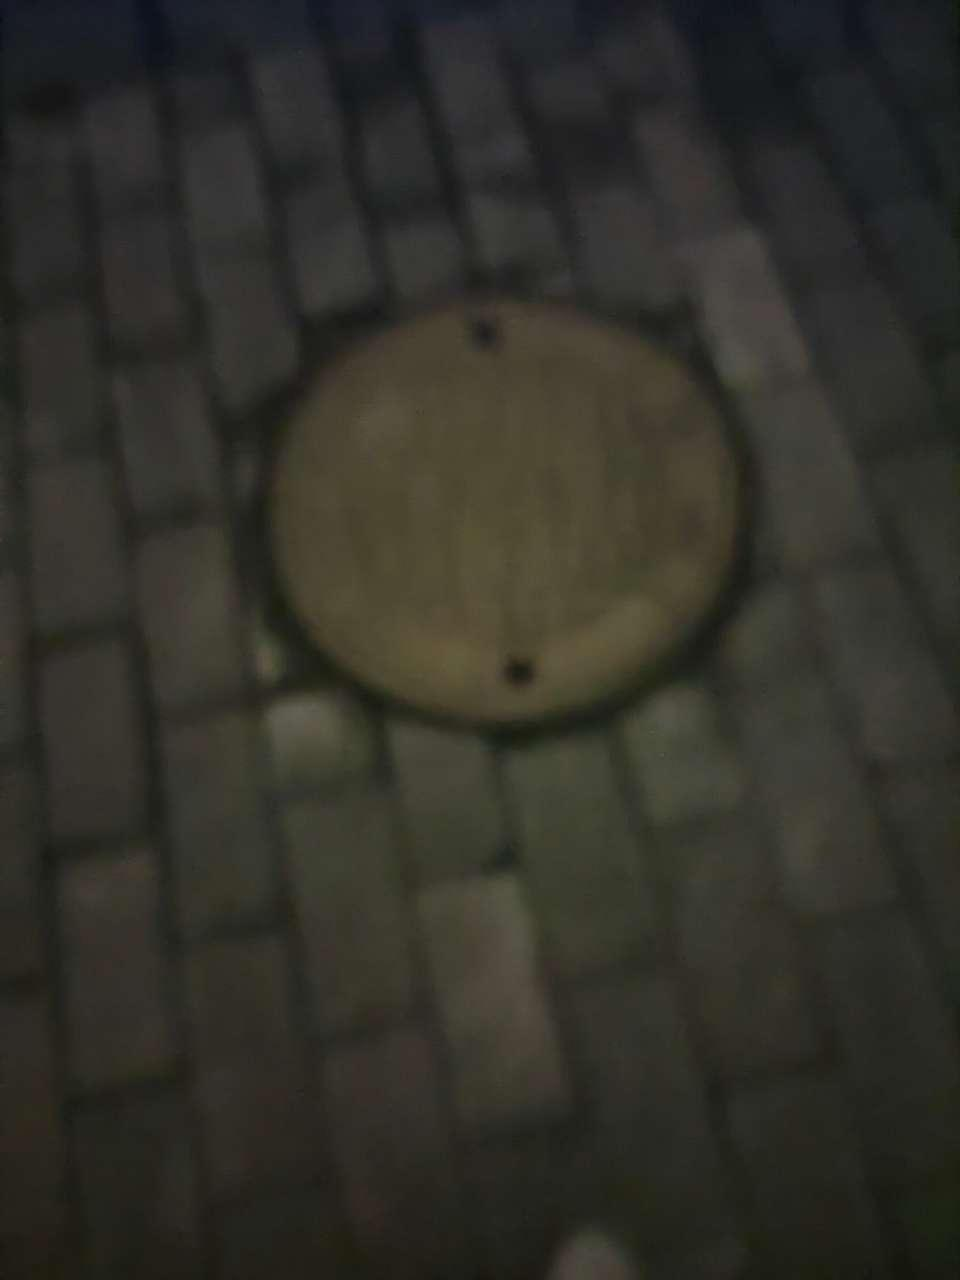wellcover: (251, 276, 773, 765)
